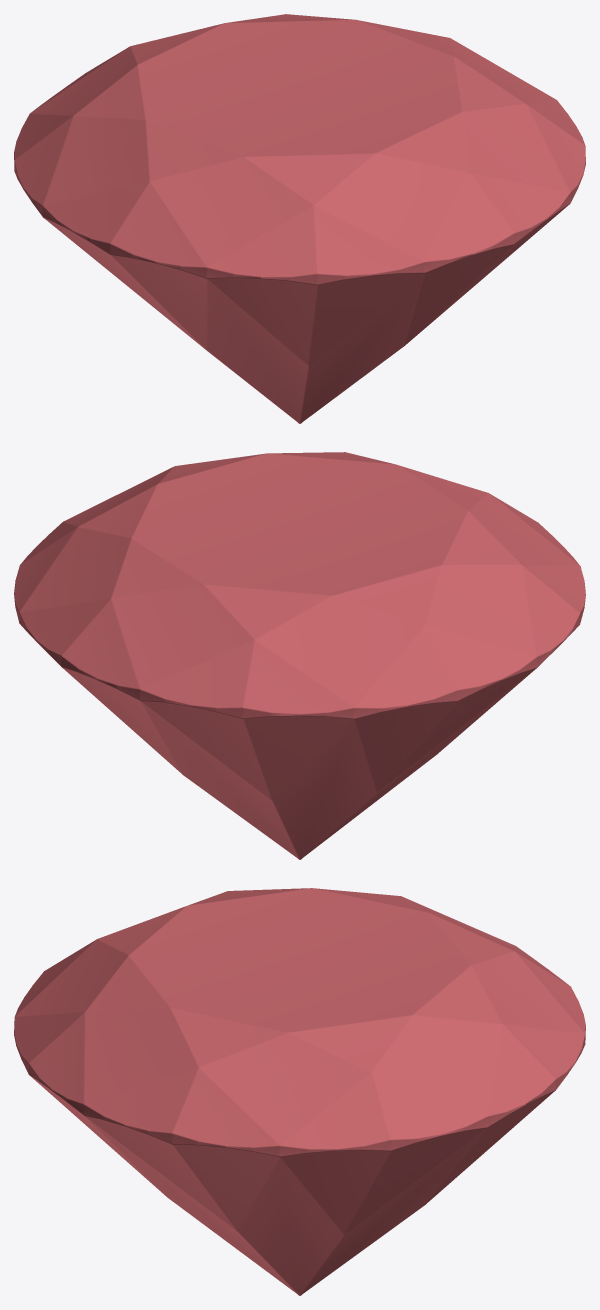
File: Ruby.fbx
The picture shows the model from 3 angles, top to bottom: view 1: azimuth 30°, elevation 25°; view 2: azimuth 150°, elevation 25°; view 3: azimuth 270°, elevation 25°; orthographic projection.
Visible parts, largest first — view 1: dobj; view 2: dobj; view 3: dobj.
Part boxes in pixels (x1=…): dobj: x1=14, y1=14, x2=585, y2=423; dobj: x1=14, y1=452, x2=585, y2=859; dobj: x1=14, y1=888, x2=585, y2=1295.
Bounding box in the file's own units: 200 × 129 × 200.
